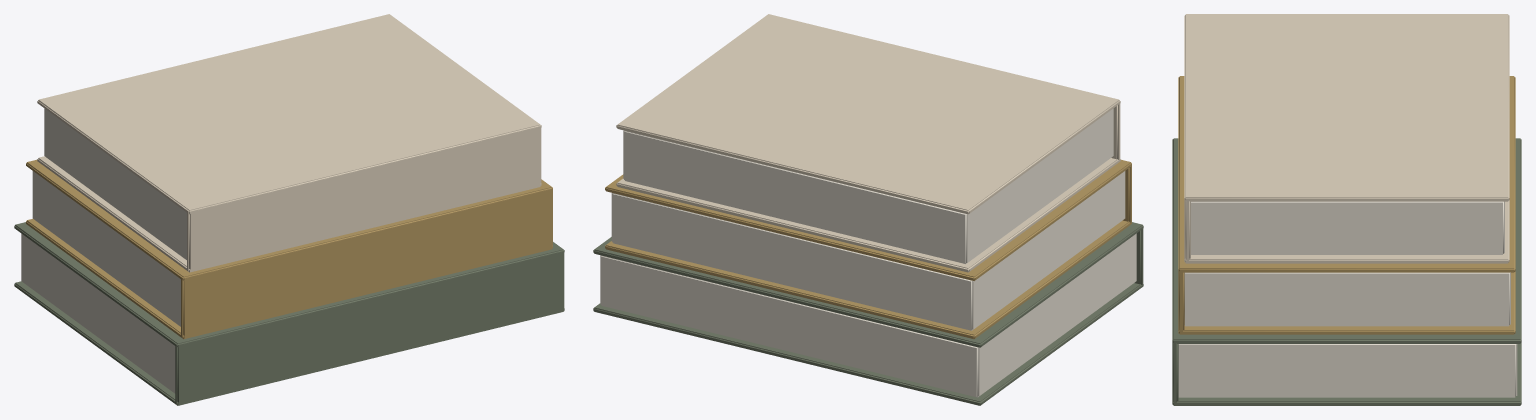
File: scandinavian.book_stack.gltf
3 renders of one model, left to right at view 1: azimuth 30°, elevation 25°; view 2: azimuth 150°, elevation 25°; view 3: azimuth 270°, elevation 25°, orthographic. The views are drawn at different scales.
Parts seen in each view (by area): view 1: scandinavian.book_stack.pages; view 2: scandinavian.book_stack.pages; view 3: scandinavian.book_stack.pages.
Boxes of the visible parts, x1,y1,x2,y2 form: scandinavian.book_stack.pages: (14, 14, 564, 405); scandinavian.book_stack.pages: (593, 14, 1143, 405); scandinavian.book_stack.pages: (1172, 14, 1521, 405).
Bounding box in the file's own units: 0.26 × 0.12 × 0.19.
